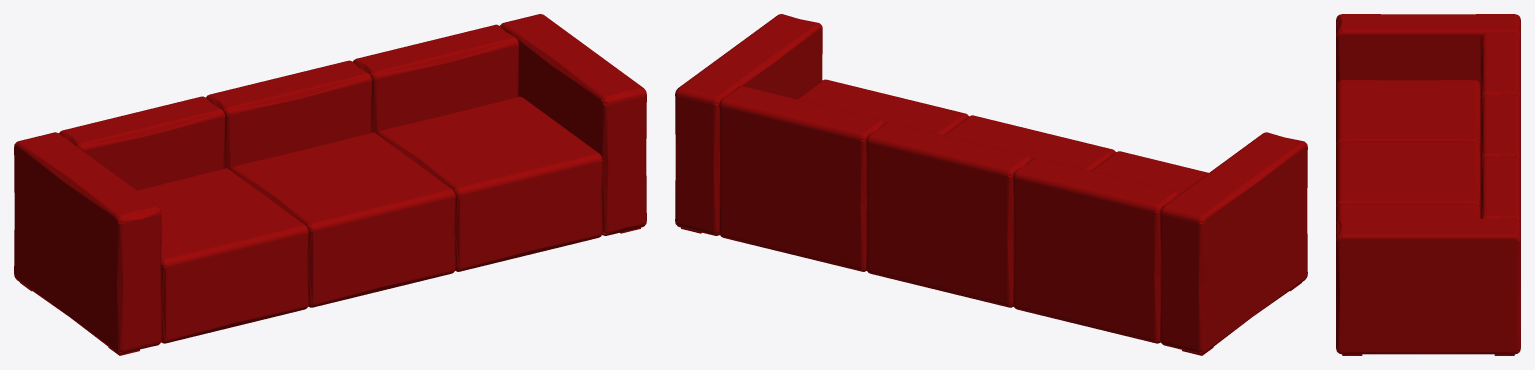
Rendered from sofa.dae.
3 renders of one model, left to right at view 1: azimuth 30°, elevation 25°; view 2: azimuth 150°, elevation 25°; view 3: azimuth 270°, elevation 25°, orthographic. The views are drawn at different scales.
Parts seen in each view (by area): view 1: Obj_000009, Obj_000005, Obj_000012, Obj_000001, Obj_000006, Obj_000003, Obj_000004, Obj_000008; view 2: Obj_000009, Obj_000008, Obj_000004, Obj_000003, Obj_000006, Obj_000005, Obj_000012, Obj_000001; view 3: Obj_000006, Obj_000009, Obj_000001, Obj_000005, Obj_000004, Obj_000003, Obj_000008, Obj_000012.
Boxes of the visible parts, <box> form: Obj_000009: <box>14,132,161,354</box>; Obj_000005: <box>229,132,455,307</box>; Obj_000012: <box>376,96,602,271</box>; Obj_000001: <box>137,168,308,343</box>; Obj_000006: <box>500,14,646,235</box>; Obj_000003: <box>353,24,518,133</box>; Obj_000004: <box>206,60,371,168</box>; Obj_000008: <box>59,96,224,190</box>; Obj_000009: <box>1160,132,1307,354</box>; Obj_000008: <box>1013,157,1178,343</box>; Obj_000004: <box>866,122,1032,307</box>; Obj_000003: <box>719,86,885,271</box>; Obj_000006: <box>675,14,822,235</box>; Obj_000005: <box>944,115,1115,170</box>; Obj_000012: <box>797,79,968,134</box>; Obj_000001: <box>1091,151,1208,194</box>; Obj_000006: <box>1336,218,1520,354</box>; Obj_000009: <box>1336,14,1520,85</box>; Obj_000001: <box>1336,80,1480,147</box>; Obj_000005: <box>1336,142,1480,209</box>; Obj_000004: <box>1480,94,1520,161</box>; Obj_000003: <box>1480,156,1520,223</box>; Obj_000008: <box>1480,32,1520,99</box>; Obj_000012: <box>1336,204,1480,223</box>.
Size of the model in its own units: 2630 by 920 by 670.
